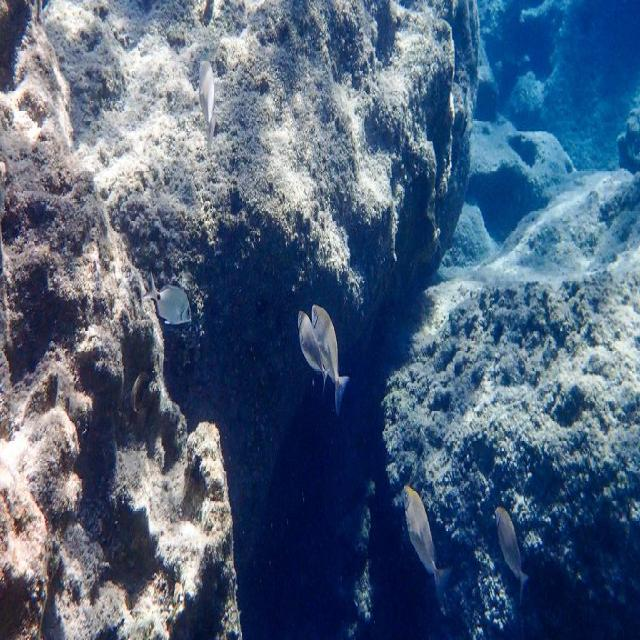Sokar Baligi: (396, 466, 462, 618), (490, 490, 534, 604), (192, 47, 225, 167), (144, 268, 199, 335)
